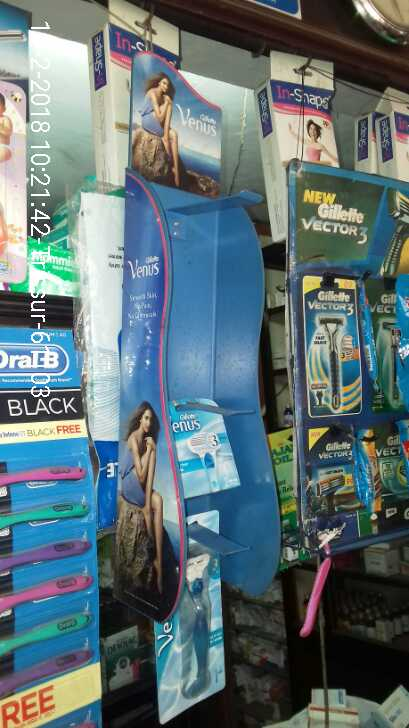beauty: (141, 512, 250, 711), (169, 388, 255, 498), (304, 427, 364, 525)
